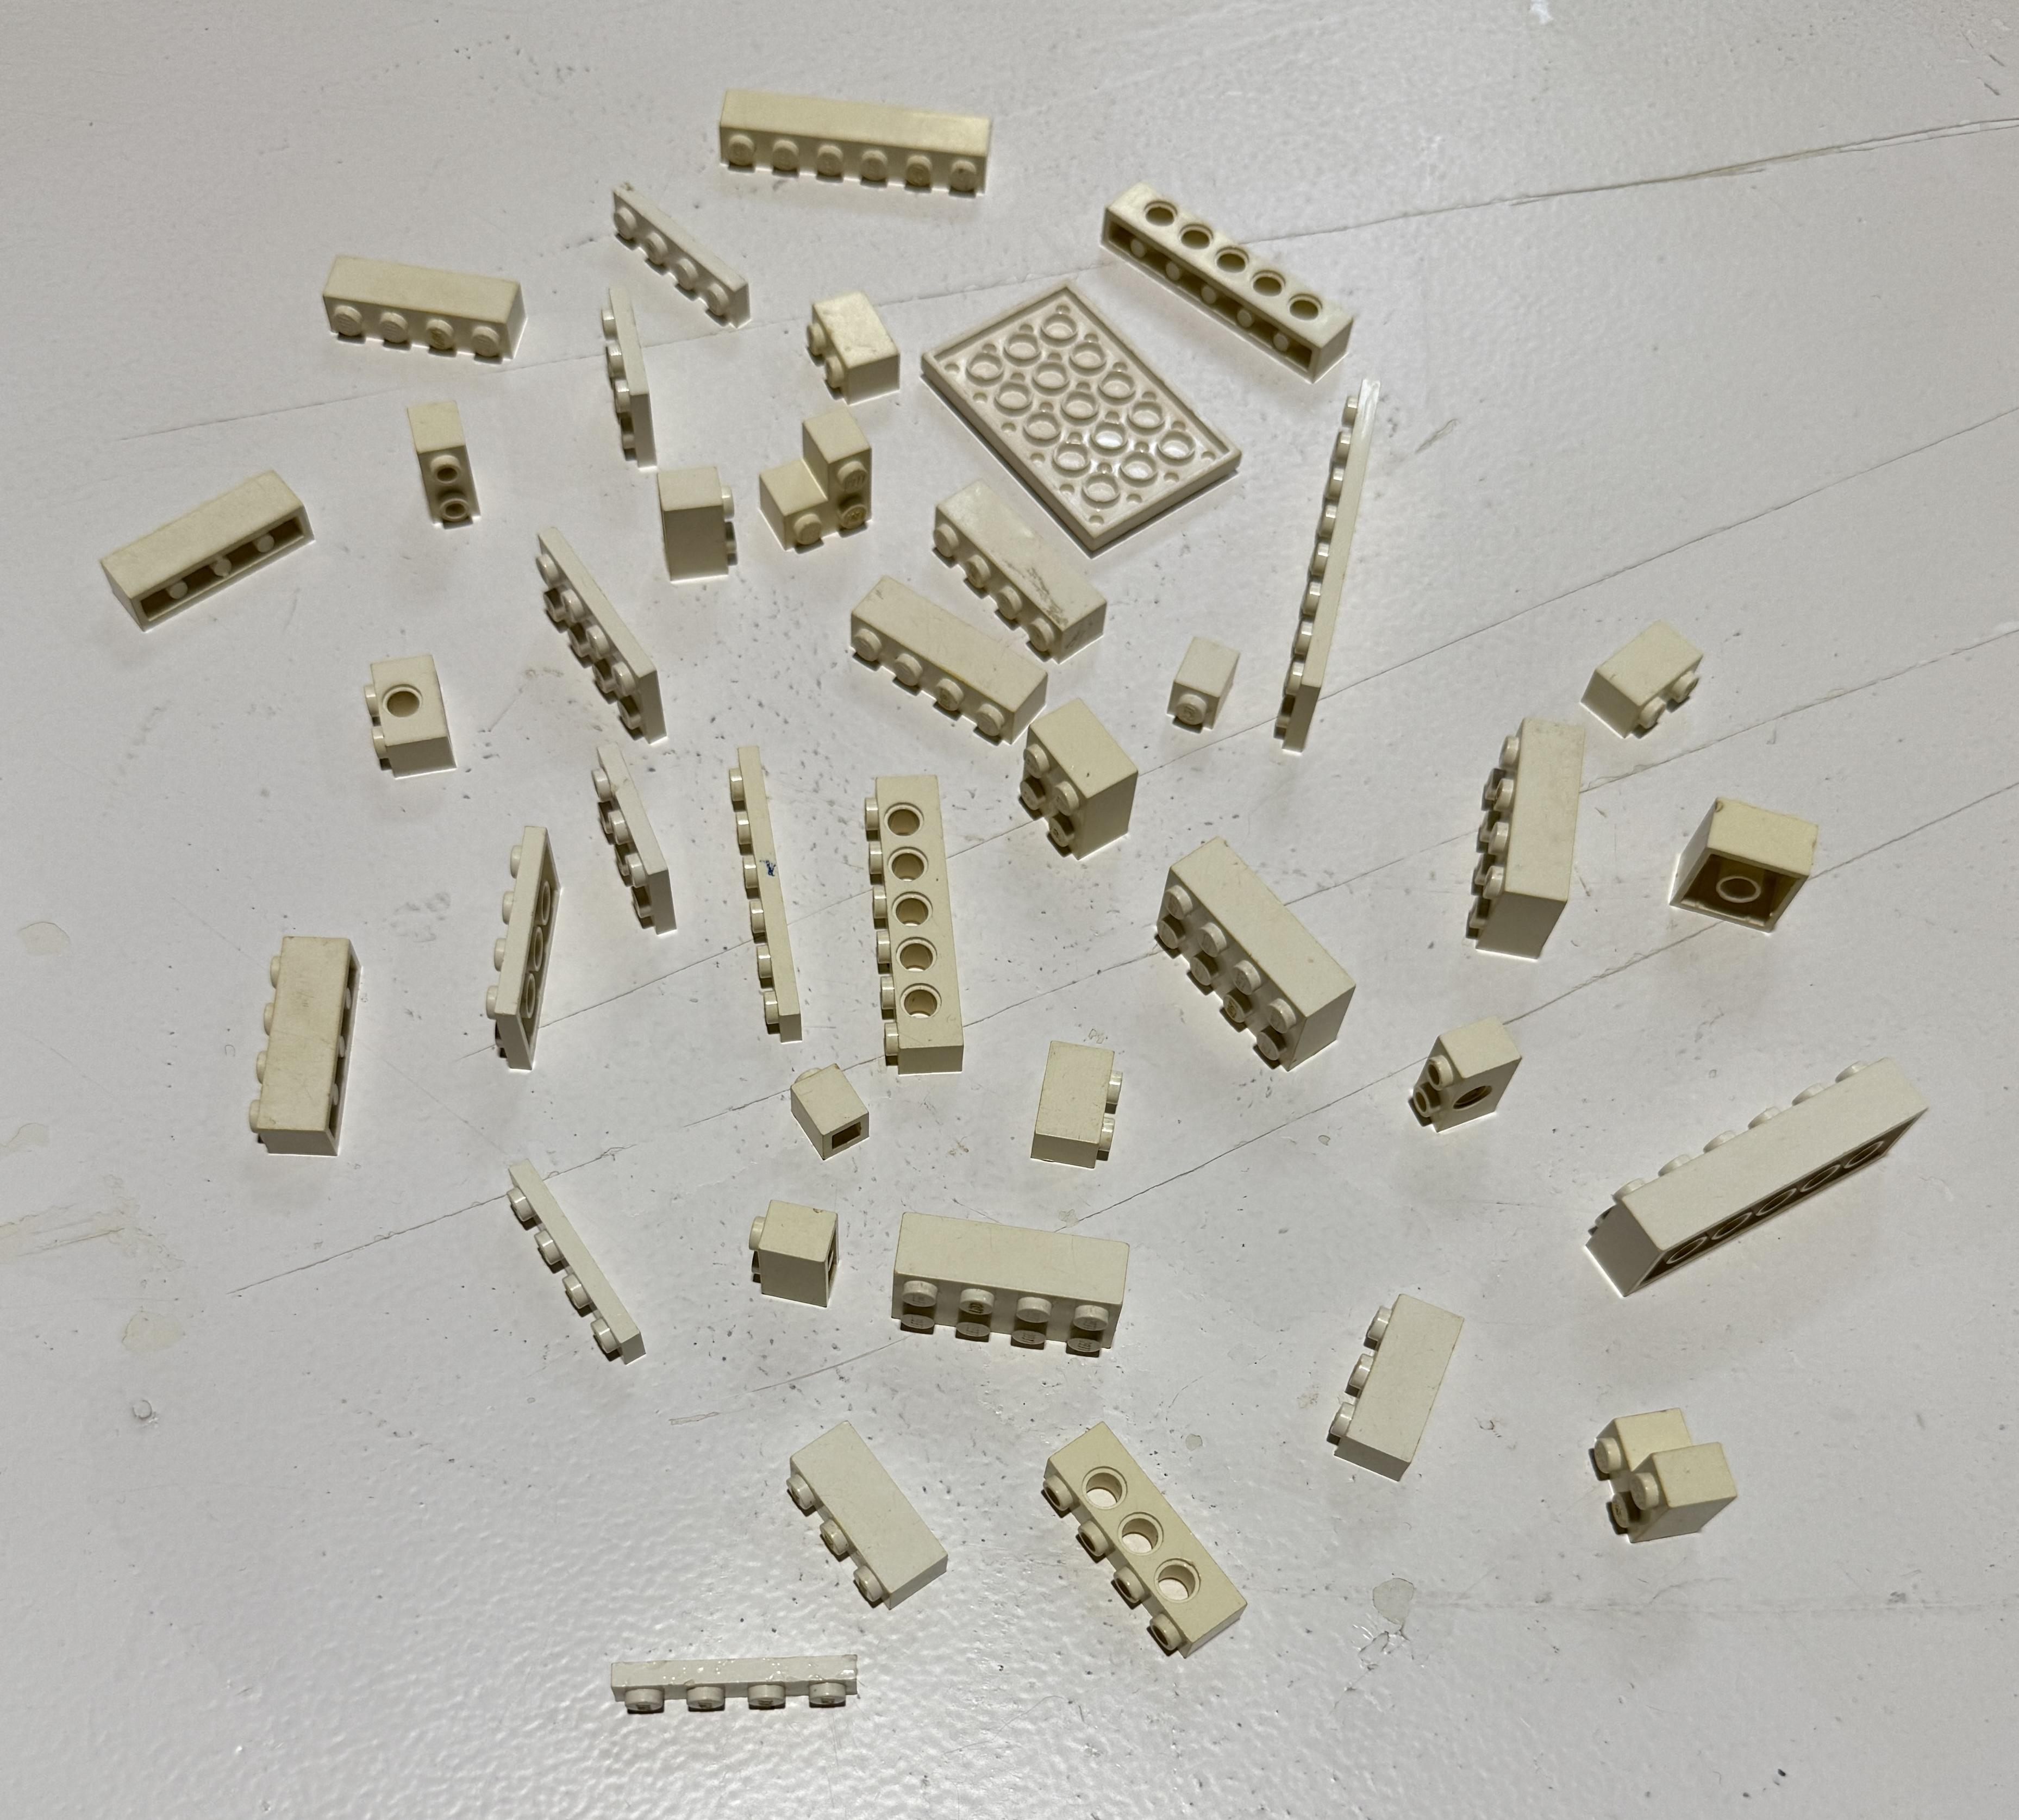brick_1x1: (710, 1175, 872, 1314), (777, 1051, 880, 1161), (1163, 618, 1253, 745)
brick_1x2: (369, 379, 524, 573), (1016, 1022, 1179, 1179), (344, 631, 485, 798), (1392, 993, 1534, 1156), (782, 267, 924, 425), (1576, 599, 1720, 754), (631, 441, 752, 592)
brick_1x3: (770, 1398, 972, 1634), (1309, 1270, 1481, 1497)
brick_1x4: (174, 892, 422, 1196), (1028, 1395, 1267, 1678), (278, 223, 559, 394), (100, 450, 327, 645), (845, 566, 1060, 755), (921, 462, 1119, 664)
brick_2x2: (1664, 784, 1845, 977), (1000, 675, 1151, 882)
brick_2x4: (1392, 685, 1613, 980), (1135, 838, 1383, 1080), (880, 1188, 1139, 1369)
